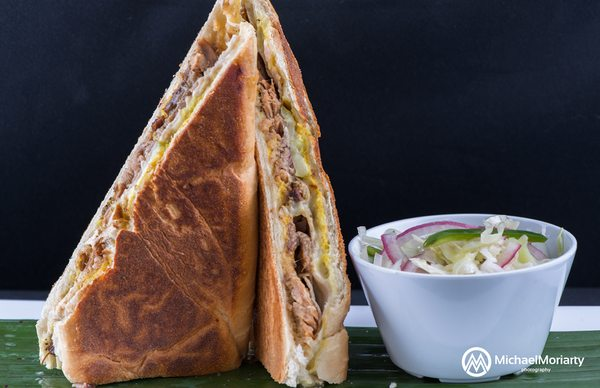soup: (39, 0, 353, 388)
sushi: (347, 212, 577, 383)
